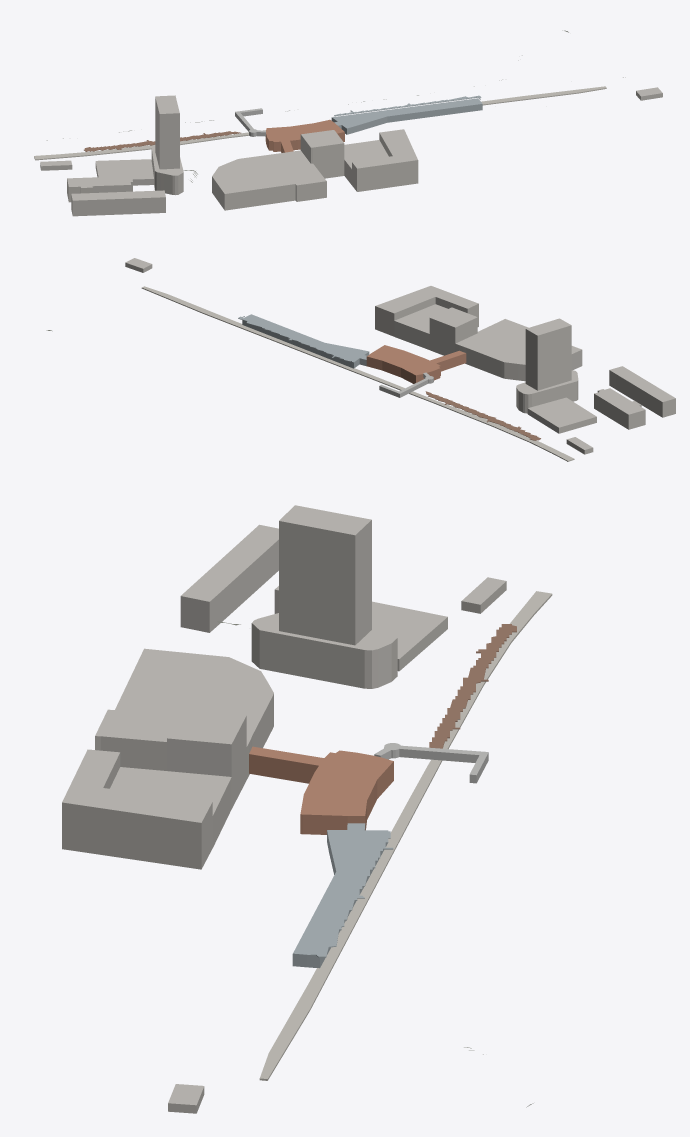
Rendered from jonkoping_c_model.glb.
3 renders of one model, top to bottom at view 1: azimuth 30°, elevation 25°; view 2: azimuth 150°, elevation 25°; view 3: azimuth 270°, elevation 25°, orthographic. The views are drawn at different scales.
Visible parts, largest first — view 1: juneporten_block, building_w973531824, building_w133411939, waiting_hall, hotel, building_w973531822, platform, station_building, building_w133411942, magasin, building_w973531823, building_w986647229 (+3 smaller); view 2: juneporten_block, hotel, platform, building_w973531824, station_building, waiting_hall, building_w133411939, building_w973531822, building_w133411942, magasin, building_w986647229, building_w973531823 (+2 smaller); view 3: juneporten_block, hotel, building_w973531824, station_building, building_w986647229, platform, building_w133411939, building_w973531822, waiting_hall, building_w973531823, building_w133411942, canopy_2a (+4 smaller).
Part boxes in pixels (x1=…): juneporten_block: x1=212, y1=150, x2=326, y2=210; building_w973531824: x1=352, y1=129, x2=418, y2=191; building_w133411939: x1=71, y1=190, x2=165, y2=216; waiting_hall: x1=331, y1=98, x2=482, y2=134; hotel: x1=155, y1=95, x2=179, y2=169; building_w973531822: x1=300, y1=130, x2=344, y2=178; platform: x1=34, y1=86, x2=606, y2=160; station_building: x1=265, y1=119, x2=344, y2=152; building_w133411942: x1=95, y1=159, x2=153, y2=185; magasin: x1=67, y1=176, x2=132, y2=202; building_w973531823: x1=344, y1=140, x2=388, y2=184; building_w986647229: x1=151, y1=145, x2=183, y2=195; juneporten_block: x1=455, y1=319, x2=582, y2=381; hotel: x1=525, y1=318, x2=571, y2=390; platform: x1=141, y1=286, x2=574, y2=461; building_w973531824: x1=375, y1=286, x2=478, y2=336; station_building: x1=366, y1=345, x2=466, y2=383; waiting_hall: x1=242, y1=314, x2=369, y2=368; building_w133411939: x1=609, y1=366, x2=675, y2=417; building_w973531822: x1=429, y1=307, x2=477, y2=355; building_w133411942: x1=527, y1=397, x2=596, y2=433; magasin: x1=594, y1=388, x2=645, y2=429; building_w986647229: x1=516, y1=370, x2=578, y2=413; building_w973531823: x1=394, y1=304, x2=447, y2=349; juneporten_block: x1=95, y1=648, x2=273, y2=779; hotel: x1=279, y1=505, x2=371, y2=645; building_w973531824: x1=62, y1=749, x2=212, y2=869; station_building: x1=249, y1=746, x2=393, y2=834; building_w986647229: x1=251, y1=613, x2=397, y2=688; platform: x1=259, y1=591, x2=552, y2=1080; building_w133411939: x1=180, y1=524, x2=278, y2=632; building_w973531822: x1=167, y1=709, x2=246, y2=808; waiting_hall: x1=292, y1=823, x2=387, y2=968; building_w973531823: x1=110, y1=767, x2=231, y2=847; building_w133411942: x1=372, y1=601, x2=447, y2=671; canopy_2a: x1=429, y1=624, x2=516, y2=748.
Size of the model in its own units: 510 by 66.15 by 219.
